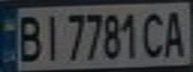1: (118, 9, 142, 60)
7: (81, 9, 106, 61), (63, 9, 84, 62)
8: (103, 9, 124, 61)
A: (160, 7, 190, 58)
B: (12, 11, 45, 62)
C: (139, 8, 169, 60)
I: (39, 10, 63, 62)
